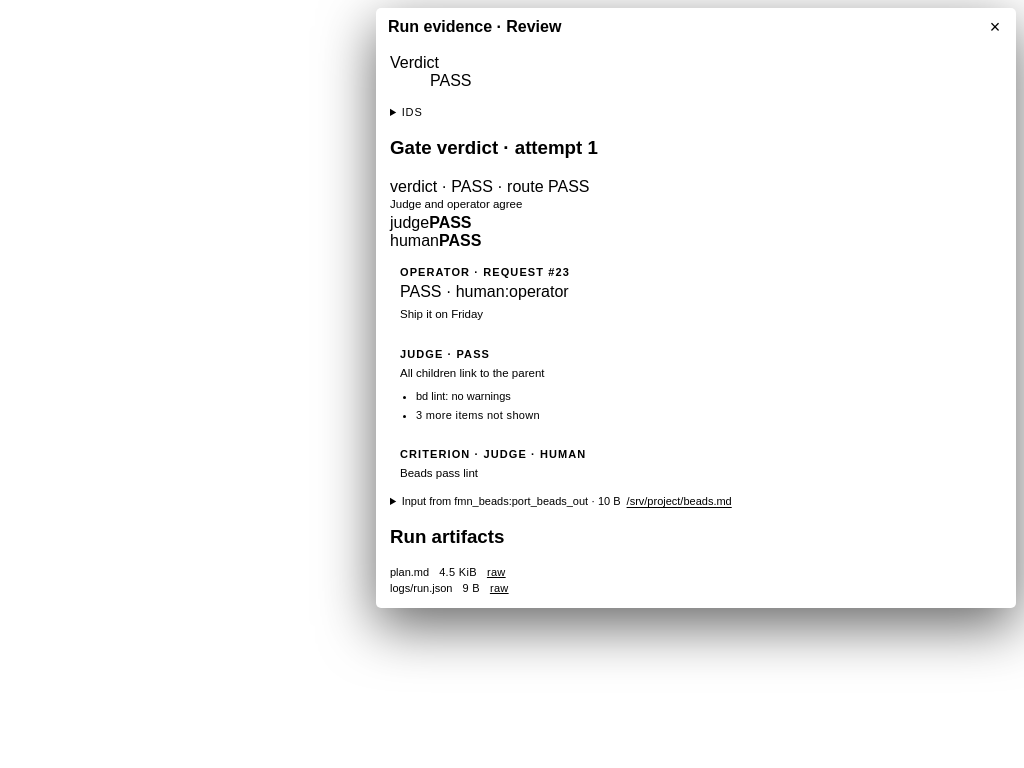
Test: RunEvidence › renders a gate verdict reason with judge evidence and the operator response
(page scrolled)
Expected: the text with test id "node-evidence-state" reads "PASS", [430,72,472,89]
Expected: the element with test id "node-gate-verdict" shows "verdict · PASS · route PASS", [390,178,590,249]
Note: A ref outside the artifact directory shows its absolute path and opens.
Step 1. Click the button "/srv/project/beads.md" → point(679, 501), box [627,495,732,507]
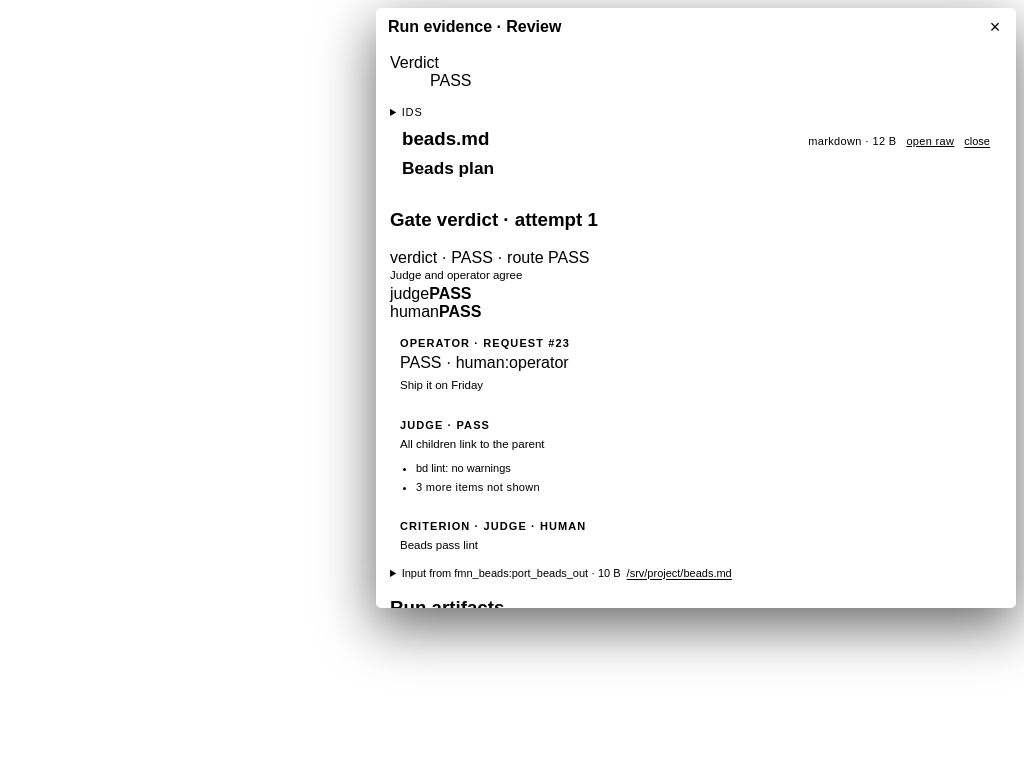
Expected: the element with test id "gate-evaluation-20" shows "judge · PASS", [390,209,732,578]
Result: the element with test id "evidence-document" shows "Beads plan" at [402,158,494,178]
